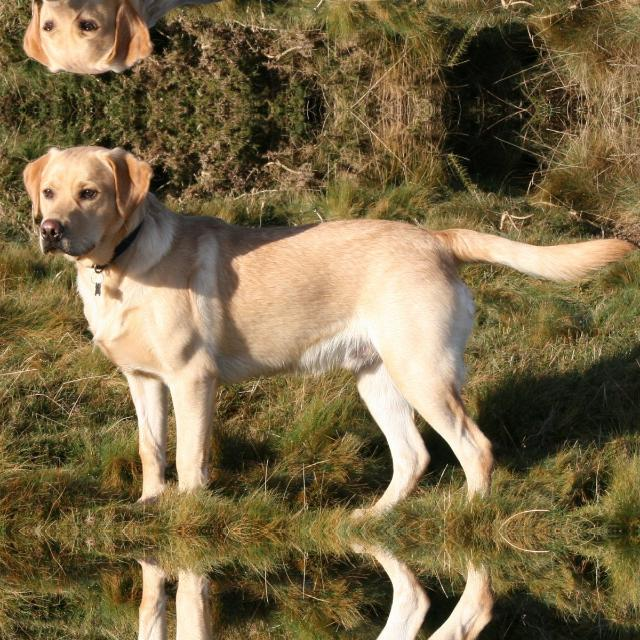dog: (16, 132, 170, 274), (16, 0, 170, 86)
